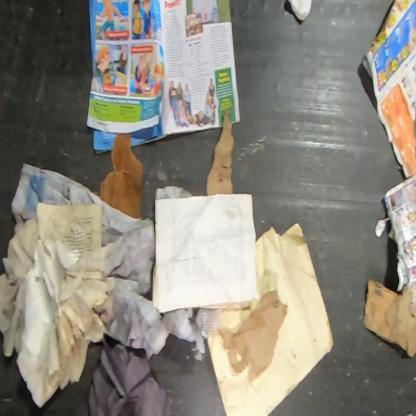cardboard: (205, 222, 336, 415), (363, 278, 415, 360), (206, 108, 235, 197), (286, 0, 313, 23)
